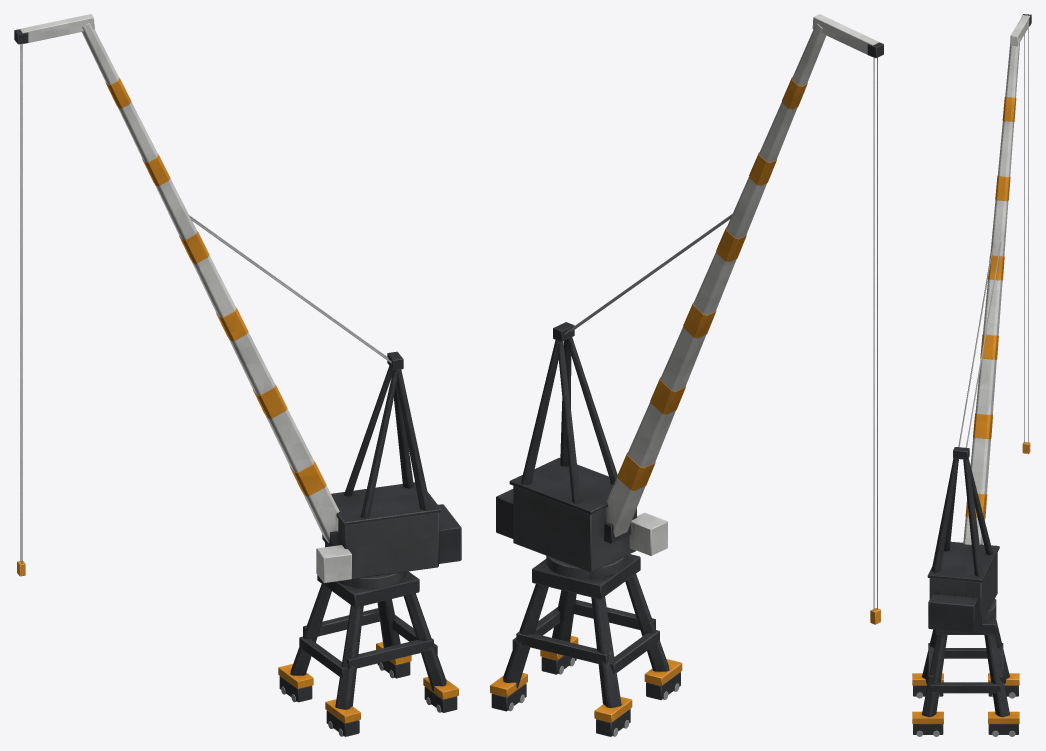
File: crane-B.glb
The picture shows the model from 3 angles, left to right: view 1: azimuth 30°, elevation 25°; view 2: azimuth 150°, elevation 25°; view 3: azimuth 270°, elevation 25°; orthographic projection. The views are drawn at different scales.
Visible parts, largest first — view 1: crane-B; view 2: crane-B; view 3: crane-B.
Part boxes in pixels (<box>): crane-B: <box>14,14,461,736</box>; crane-B: <box>490,14,883,736</box>; crane-B: <box>912,14,1031,736</box>.
Bounding box in the file's own units: 48.44 × 84.79 × 15.79.
Materials: 1 (1 with a texture image).
